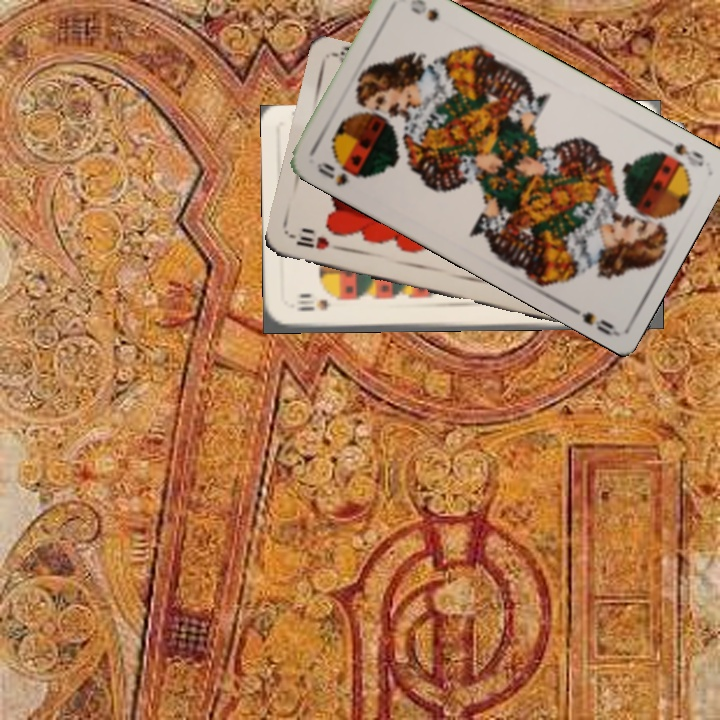H10: (291, 232, 346, 253)
S10: (293, 297, 334, 314)
SO: (313, 158, 351, 190), (670, 139, 707, 169)
